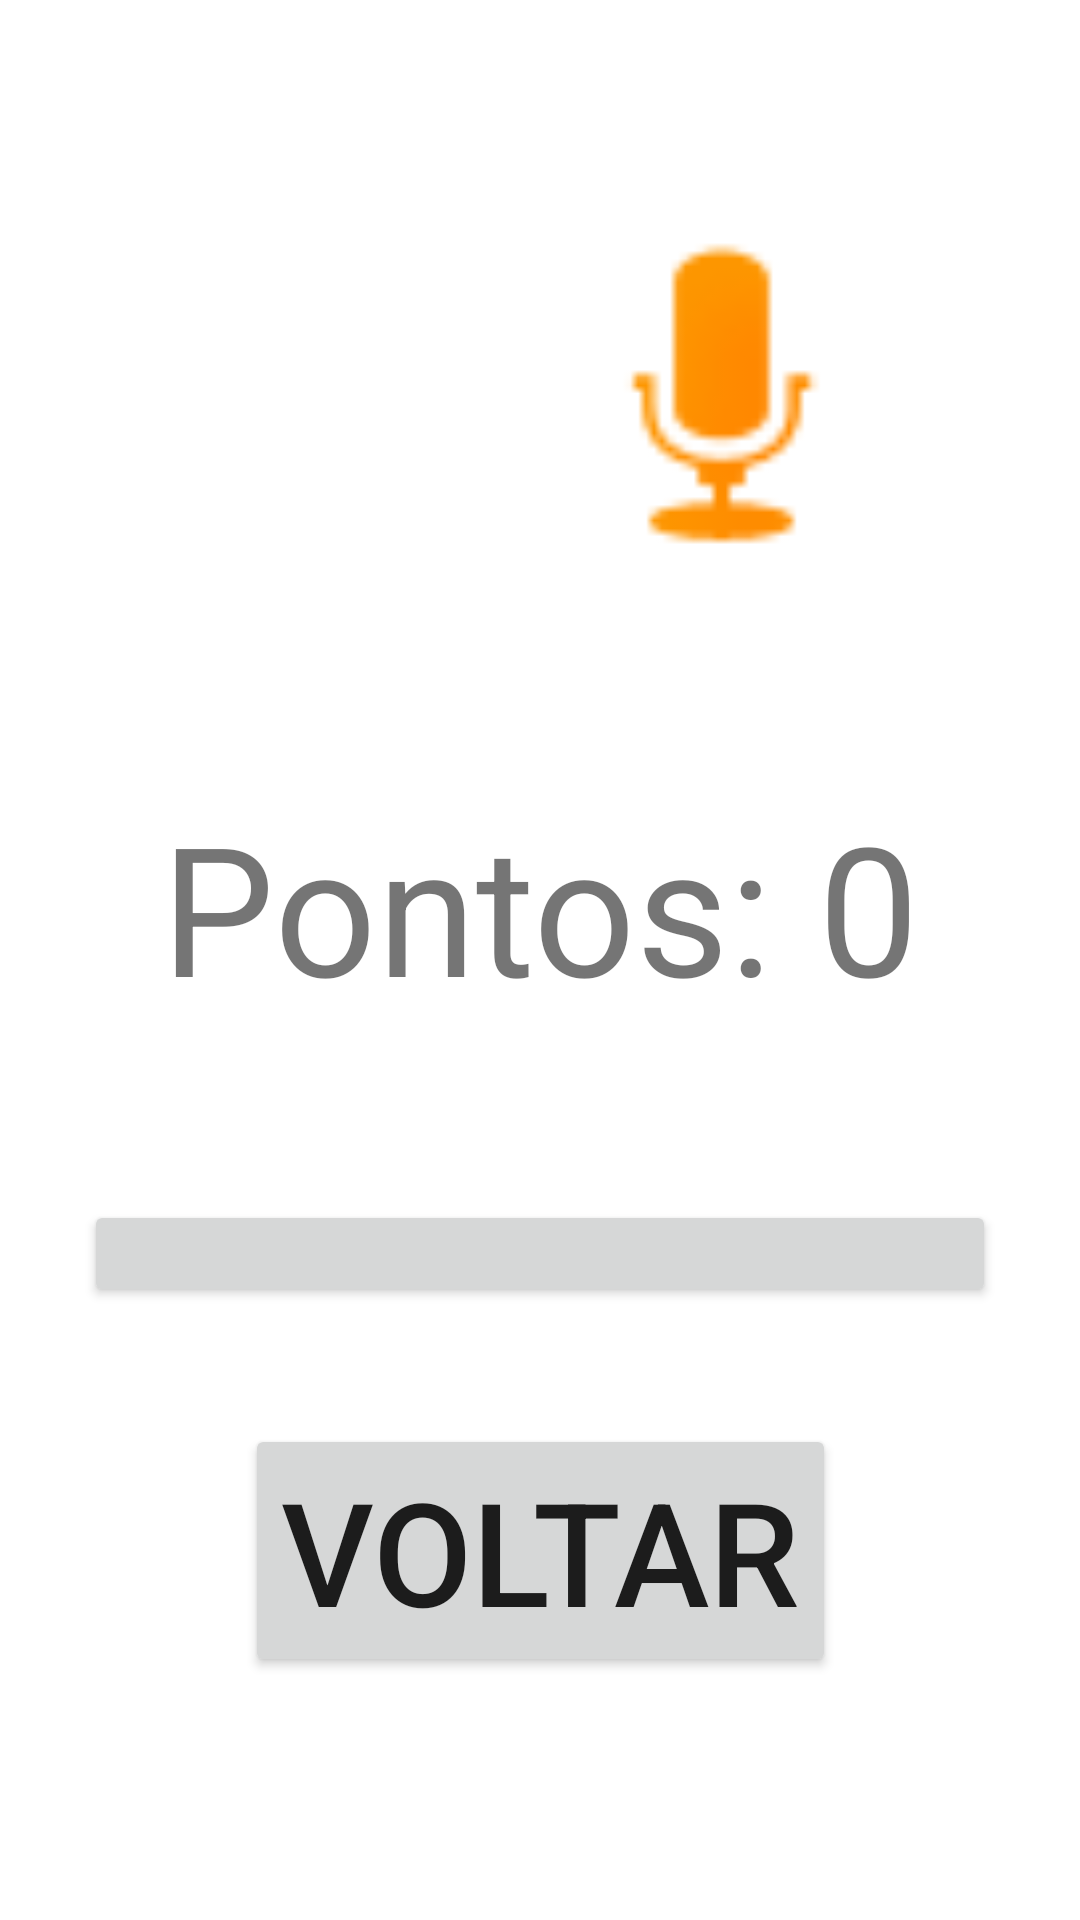

Icons on this 1080 x 1920 Android screen, each with the point to tap as (x=x, y=y):
presence audio away: (x=724, y=394)
